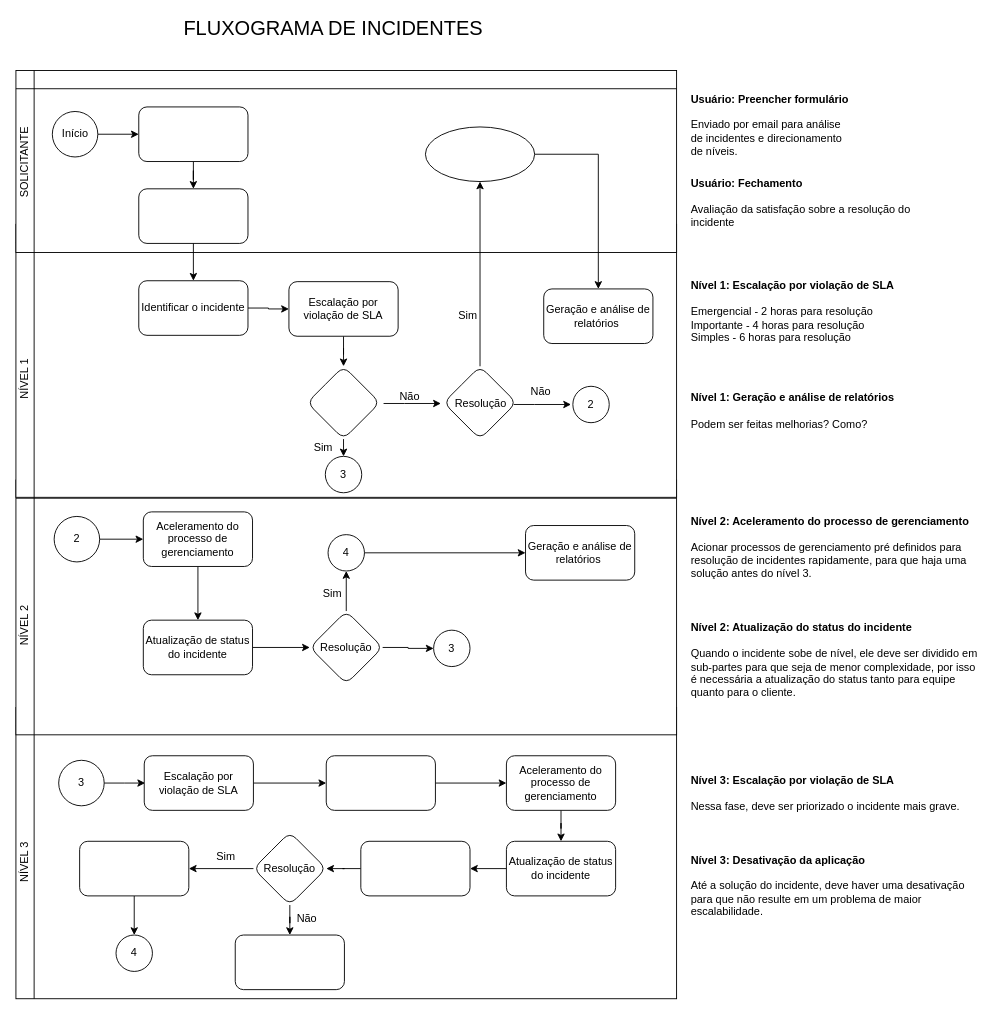
Some shapes in this 996 by 1015 pixel diagram are drawn without their labels. Each missing label, with the centre of its shape:
4- Fechamento: pixel 480 154
Contactar a Central de Atendimento: pixel 193 134
Desativação da aplicação para resolução: pixel 380 782
Emergencial: pixel 343 402
Preencher formulário: pixel 193 215
Rastreamento através do cliclo de vida: pixel 415 868
Rollback: pixel 289 962
Subir aplicação estável: pixel 134 868
